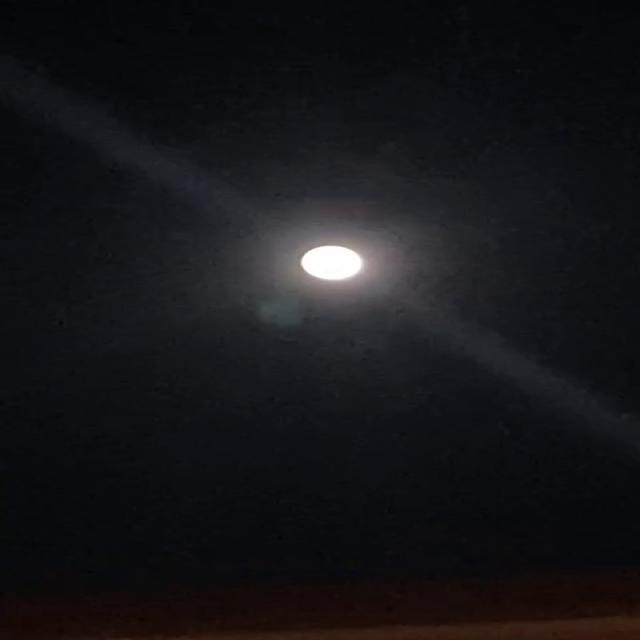moon: (294, 242, 374, 285)
